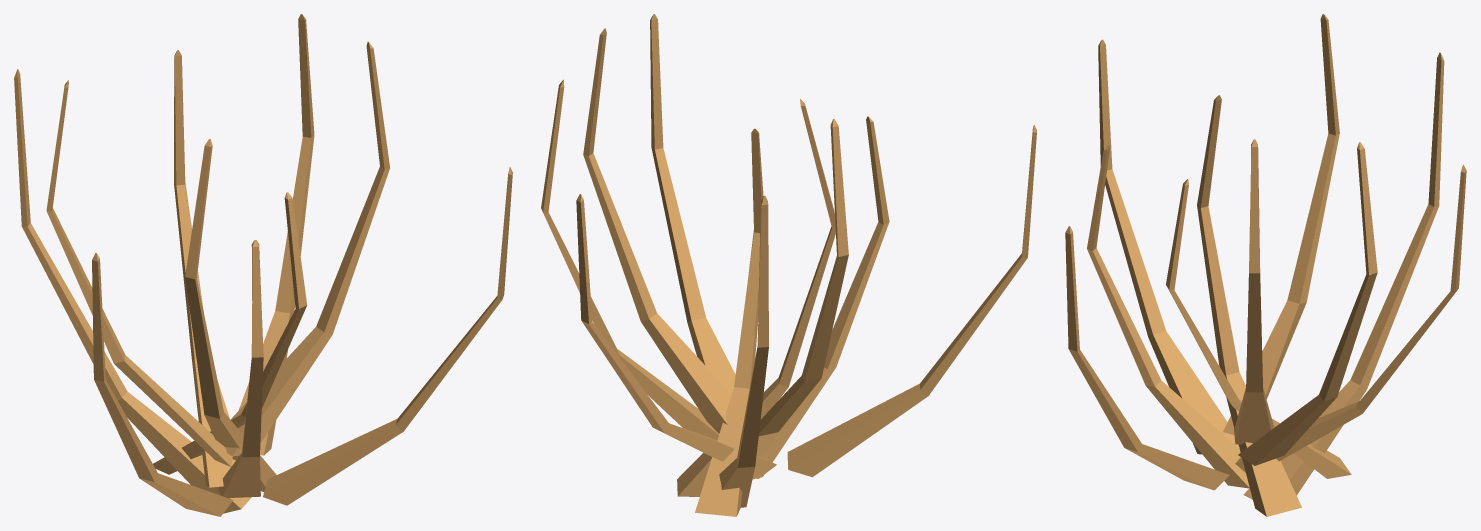
Rendered from Thorns_14.fbx.
The picture shows the model from 3 angles, left to right: view 1: azimuth 30°, elevation 25°; view 2: azimuth 150°, elevation 25°; view 3: azimuth 270°, elevation 25°; orthographic projection. The views are drawn at different scales.
Parts seen in each view (by area): view 1: Thorns_14; view 2: Thorns_14; view 3: Thorns_14.
Boxes of the visible parts, box(x1,y1,x2,y2) form: Thorns_14: box(14, 14, 512, 516); Thorns_14: box(541, 14, 1036, 516); Thorns_14: box(1065, 14, 1466, 516).
Bounding box in the file's own units: 74.74 × 77.86 × 66.22.
